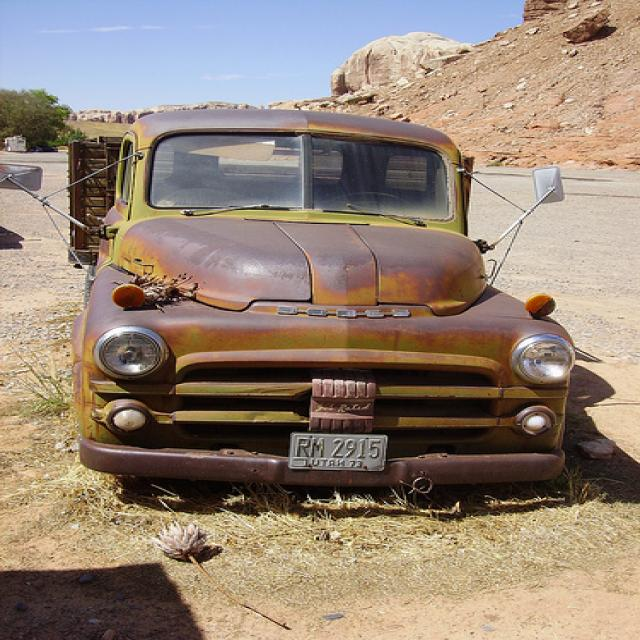Car: (56, 93, 586, 499)
